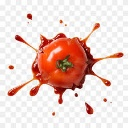tomato: (38, 38, 88, 87)
